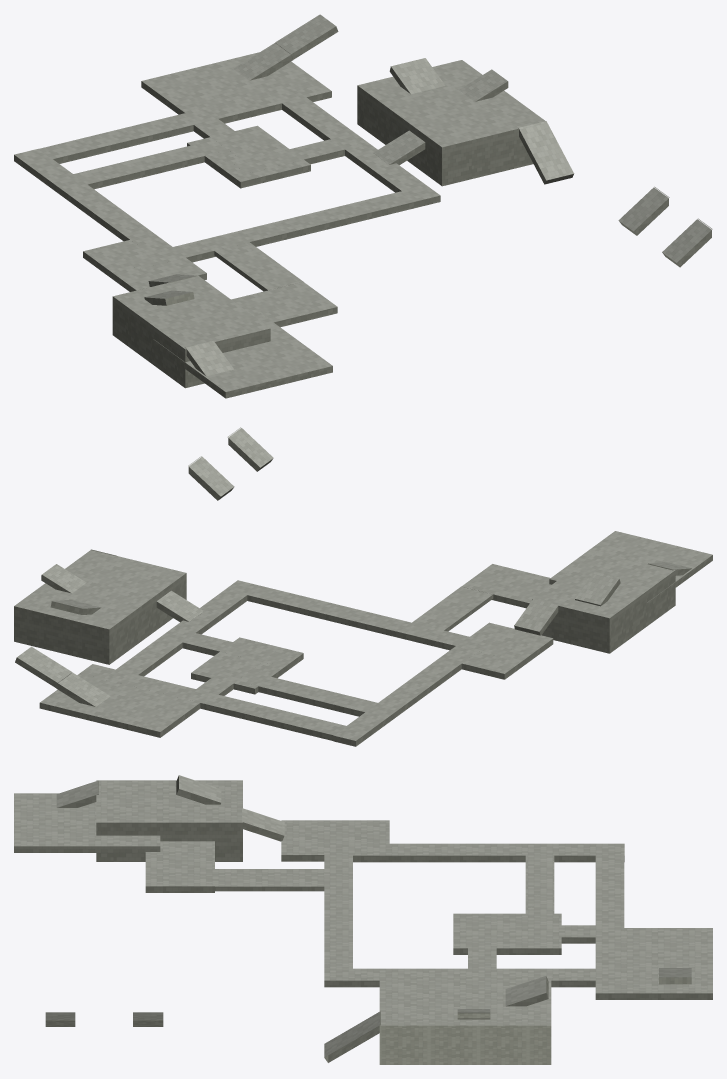
Rendered from SM_QD_Ground_CoastalWalks.fbx.
3 renders of one model, top to bottom at view 1: azimuth 30°, elevation 25°; view 2: azimuth 150°, elevation 25°; view 3: azimuth 270°, elevation 25°, orthographic. The views are drawn at different scales.
Visible parts, largest first — view 1: SM_QD_Ground_CoastalWalks; view 2: SM_QD_Ground_CoastalWalks; view 3: SM_QD_Ground_CoastalWalks.
Part boxes in pixels (x1,y1,x2,y2): SM_QD_Ground_CoastalWalks: [14, 14, 712, 398]; SM_QD_Ground_CoastalWalks: [14, 427, 712, 746]; SM_QD_Ground_CoastalWalks: [14, 775, 712, 1064].
Bounding box in the file's own units: 56.95 × 67.78 × 5.95.
Materials: 2 (2 with a texture image).
